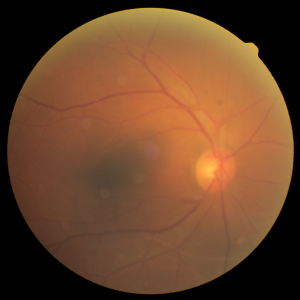cataract: (72, 107, 261, 223)
